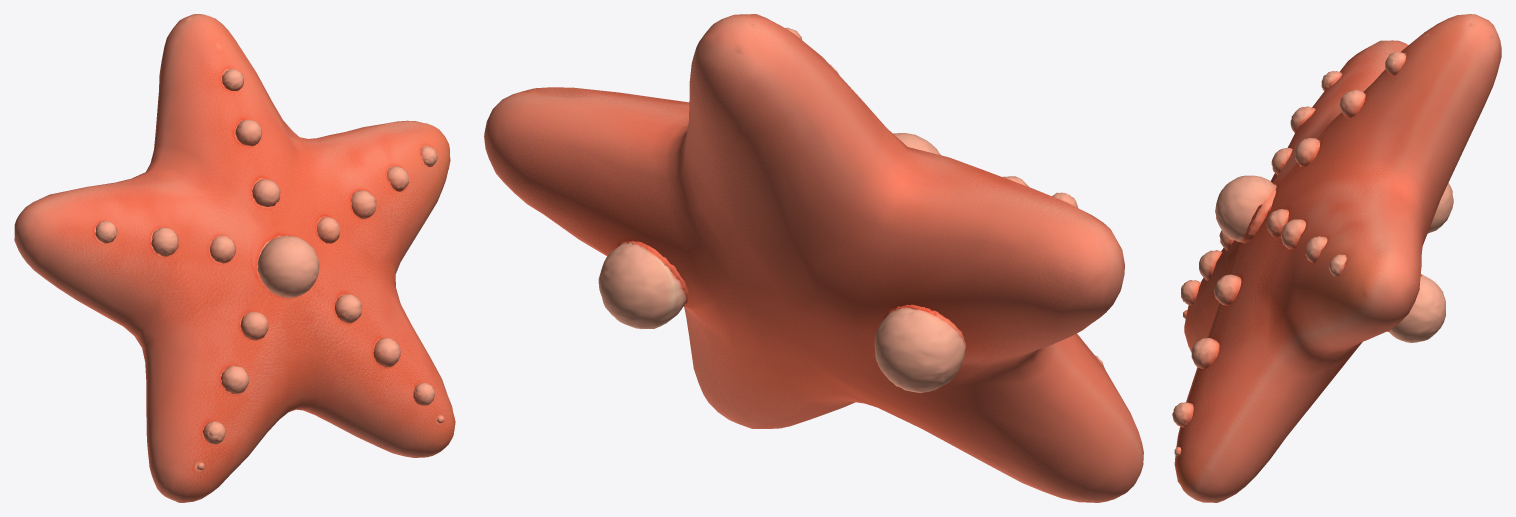
The model's file is mem_ac_starfish.fbx.
The picture shows the model from 3 angles, left to right: view 1: azimuth 30°, elevation 25°; view 2: azimuth 150°, elevation 25°; view 3: azimuth 270°, elevation 25°; orthographic projection. The views are drawn at different scales.
Visible parts, largest first — view 1: tripo_node_f58a4ace; view 2: tripo_node_f58a4ace; view 3: tripo_node_f58a4ace.
Boxes of the visible parts, box(x1,y1,x2,y2) form: tripo_node_f58a4ace: box(14, 14, 455, 502); tripo_node_f58a4ace: box(484, 14, 1143, 502); tripo_node_f58a4ace: box(1172, 14, 1501, 502).
Bounding box in the file's own units: 0.998 × 0.8574 × 0.6035.
